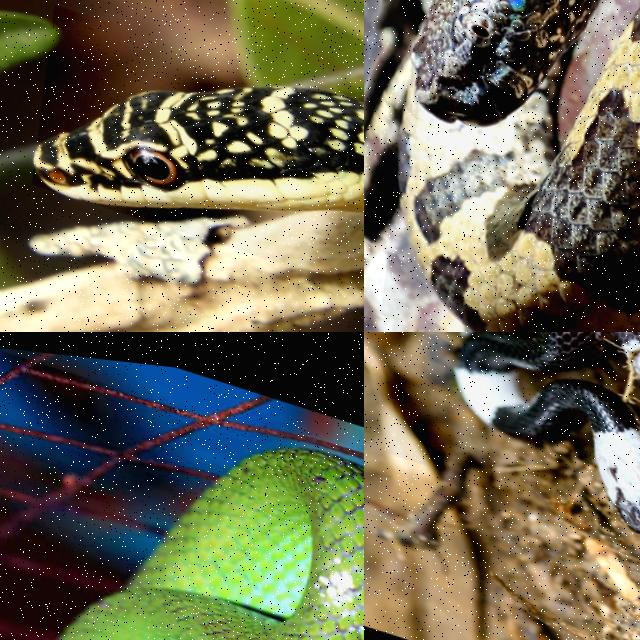Bungarus candidus: (457, 332, 639, 531)
Chrysopelea ornata: (34, 86, 363, 211)
Ovophis monticola: (401, 0, 639, 331)
Trimeresurus macrops: (61, 448, 363, 639)
